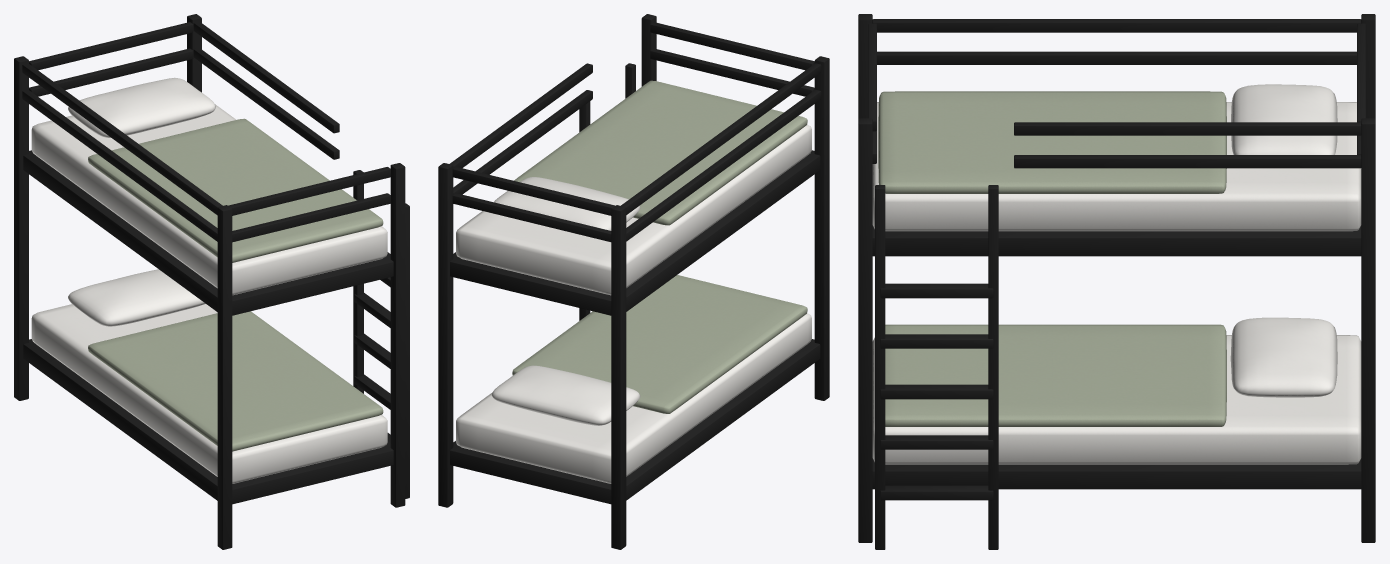
File: litera_metal_90.glb
3 renders of one model, left to right at view 1: azimuth 30°, elevation 25°; view 2: azimuth 150°, elevation 25°; view 3: azimuth 270°, elevation 25°, orthographic. The views are drawn at different scales.
Parts seen in each view (by area): view 1: litera_metal_90; view 2: litera_metal_90; view 3: litera_metal_90.
Part boxes in pixels (bbox=[...]): litera_metal_90: bbox=[14, 14, 409, 549]; litera_metal_90: bbox=[438, 14, 829, 549]; litera_metal_90: bbox=[858, 14, 1375, 549].
Size of the model in its own units: 1.09 by 1.8 by 2.01.
Materials: 3 (2 with a texture image).
